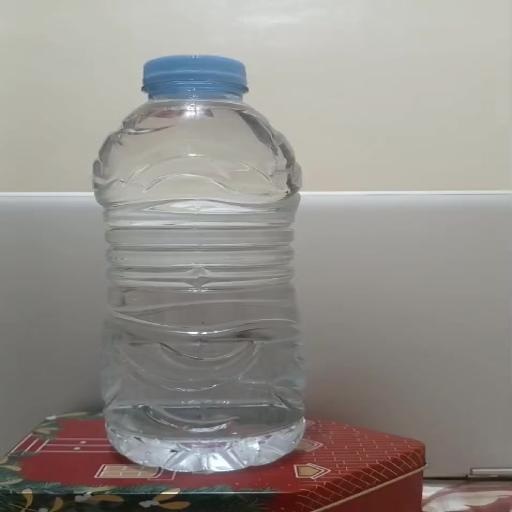bouteille non conformite: (44, 45, 402, 472), (0, 157, 425, 357)
